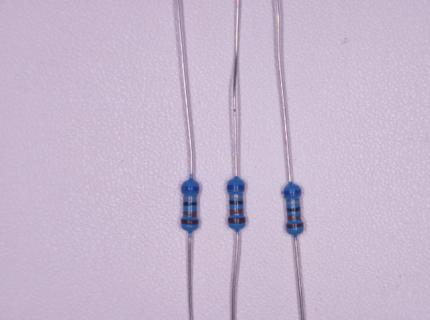Black band: (183, 202, 197, 208), (229, 201, 243, 206), (287, 207, 301, 212)
Blue band: (227, 185, 246, 191), (181, 186, 198, 192), (283, 190, 301, 195)
Brown band: (228, 217, 246, 225), (181, 219, 199, 226), (285, 223, 303, 229)
Grey band: (183, 196, 198, 200), (229, 195, 243, 199), (287, 201, 300, 205)
Orange band: (182, 210, 197, 216), (229, 209, 244, 215), (287, 215, 301, 221)
